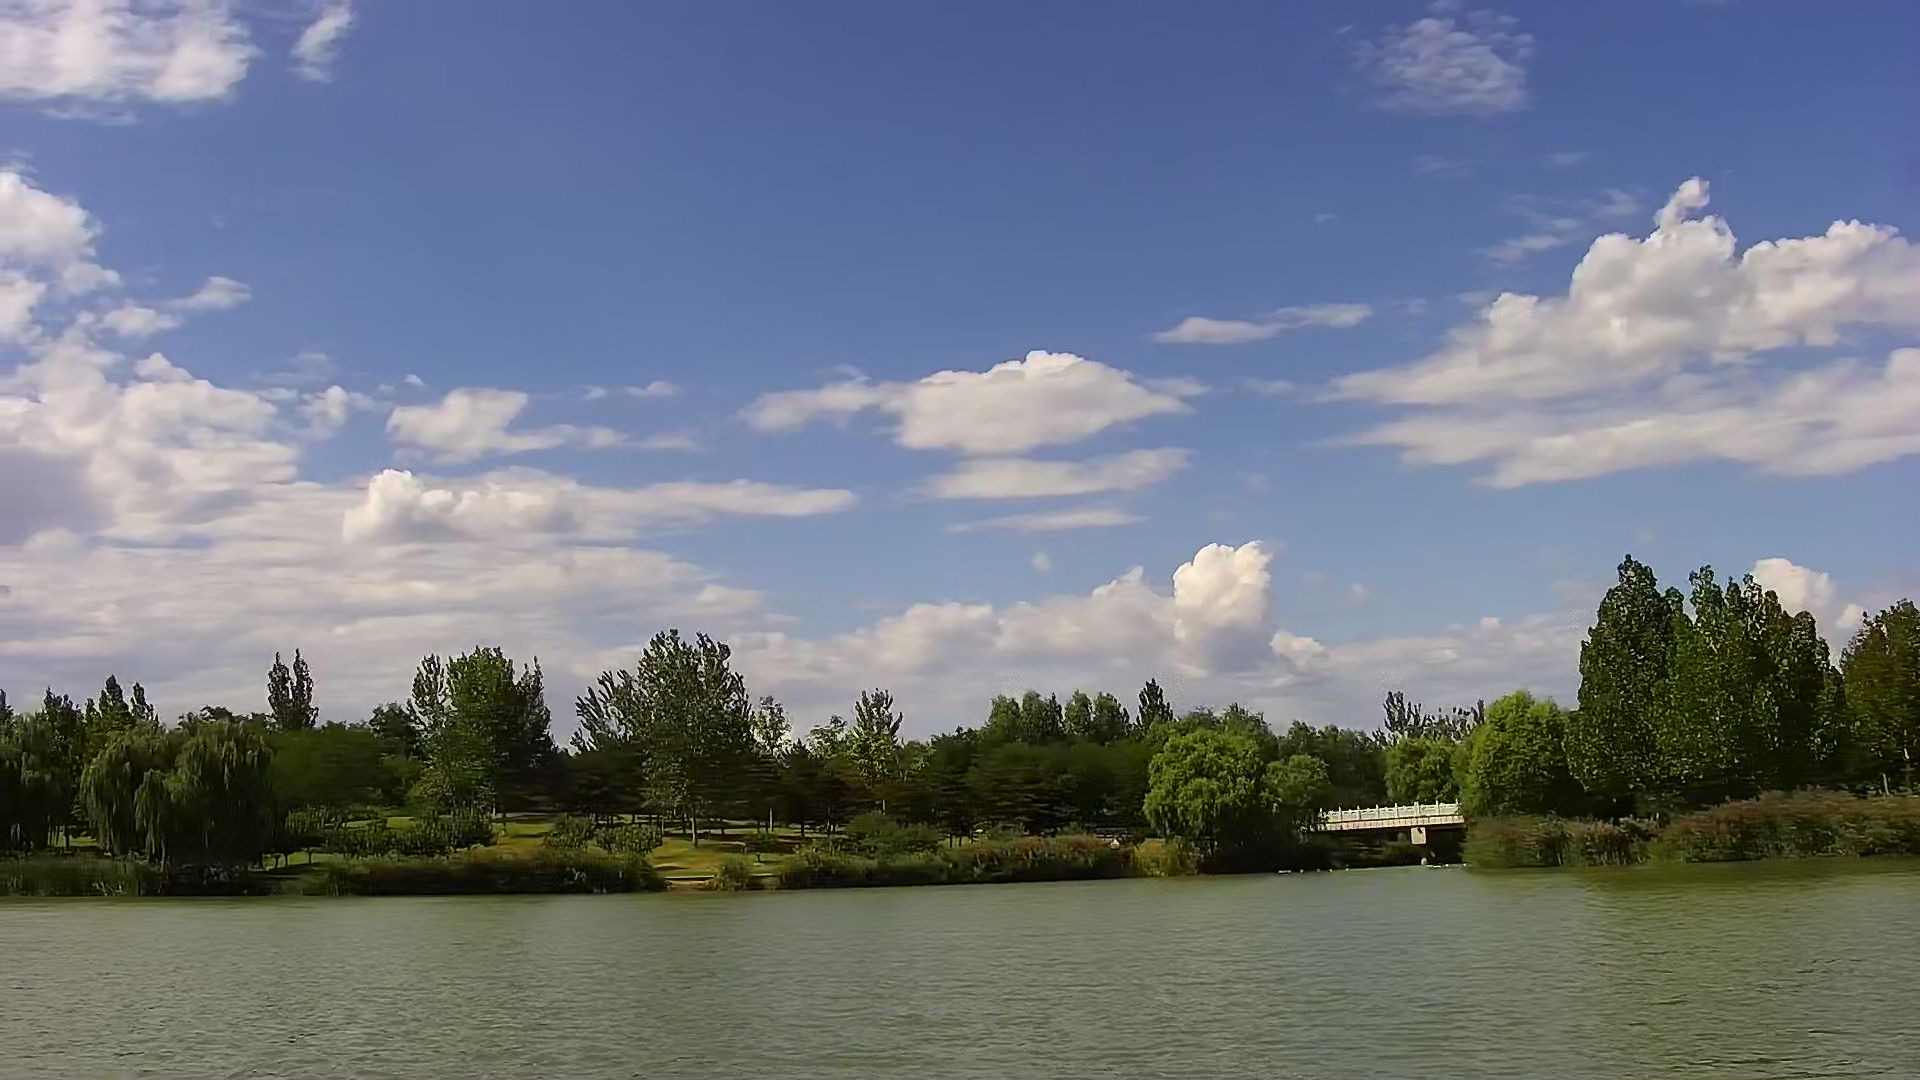bridge: (1329, 800, 1462, 870)
